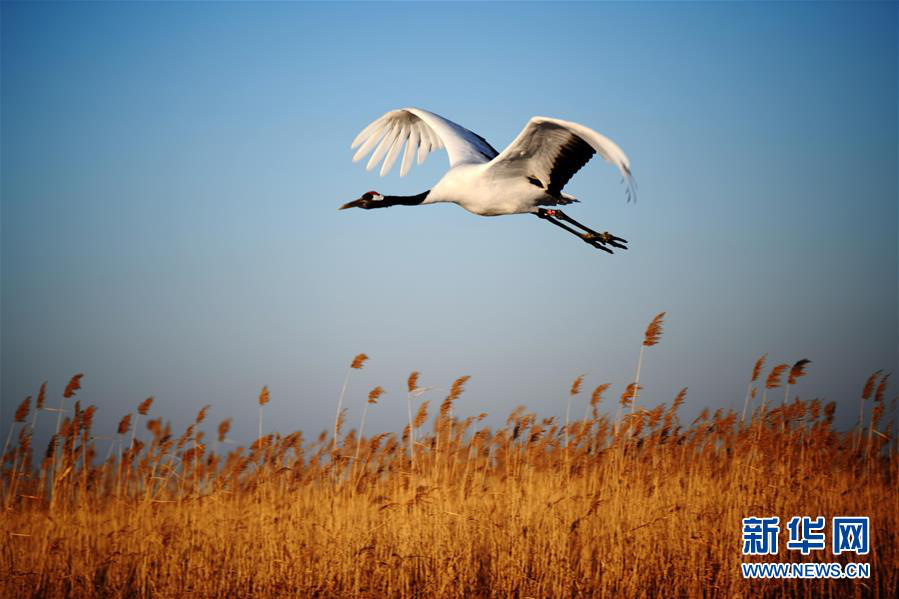bird: (334, 106, 648, 258)
